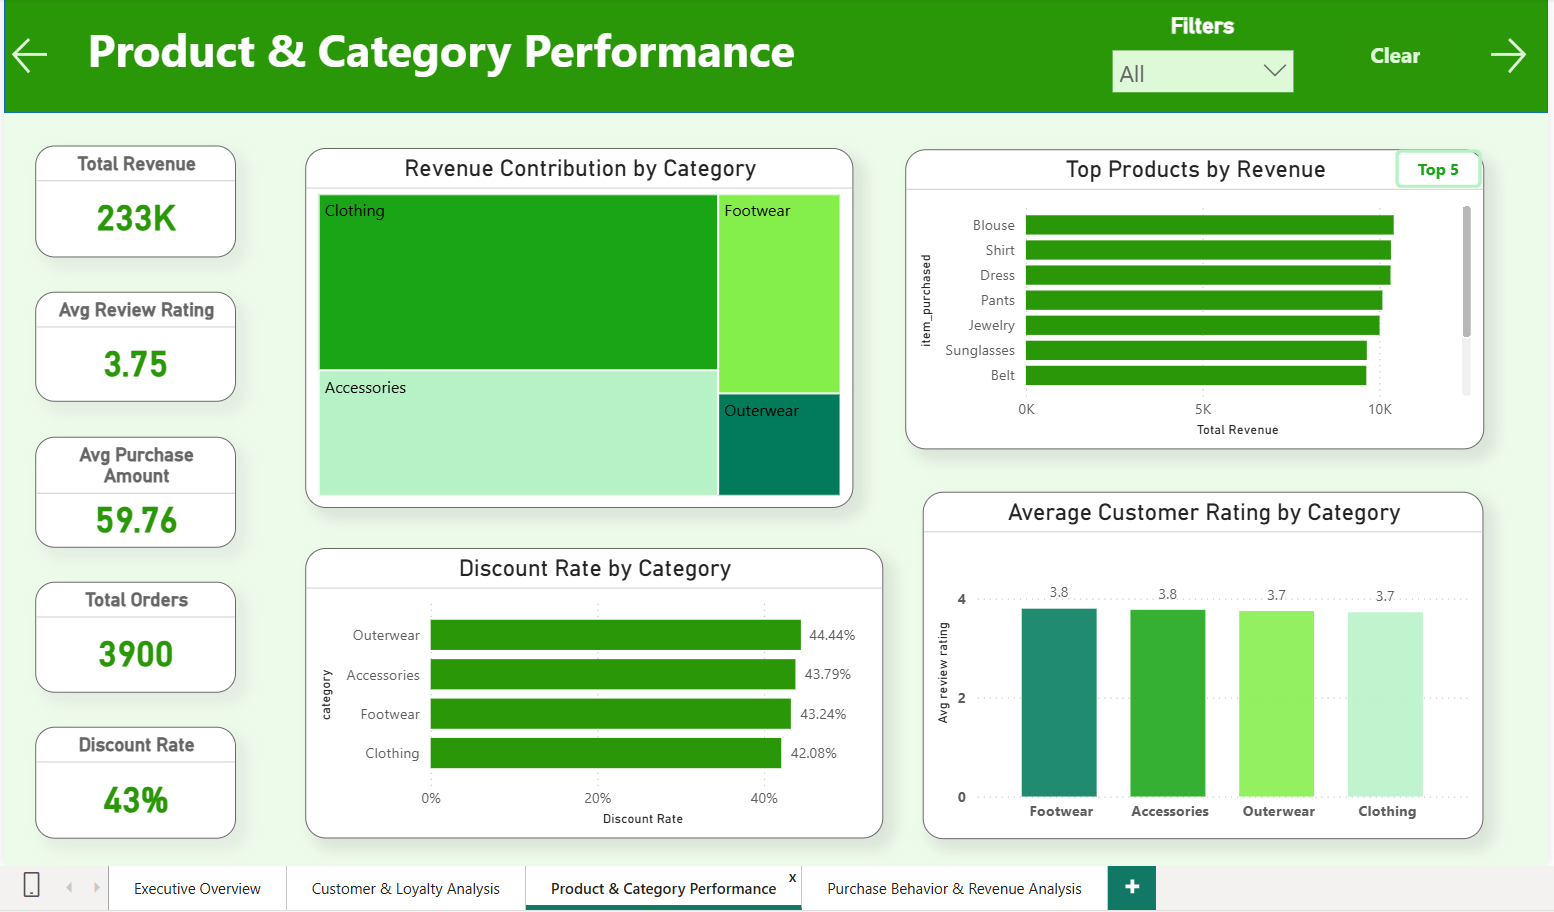

Layout of this report page (visuals, bound fields, positions):
{"tool":"powerbi","page":{"name":"Product & Category Performance","canvas":[1280,720],"ordinal":2},"visuals":[{"type":"card","title":"Total Revenue","fields":{"Values":["customer_behaviour customer.Total Revenue"]},"box":[25.8,122.7,166.7,92.4],"z":0},{"type":"card","title":"Avg Review Rating","fields":{"Values":["customer_behaviour customer.Avg review rating"]},"box":[25.8,243.8,166.7,90.9],"z":1000},{"type":"card","title":"Avg Purchase Amount","fields":{"Values":["customer_behaviour customer.Avg purchase amount"]},"box":[25.8,363.3,166.7,92],"z":2000},{"type":"card","title":"Total Orders","fields":{"Values":["customer_behaviour customer.Total Orders"]},"box":[25.8,483.9,166.7,92],"z":3000},{"type":"card","title":"Discount Rate","fields":{"Values":["customer_behaviour customer.Discount Rate"]},"box":[25.8,604.5,166.7,92.4],"z":4000},{"type":"shape","box":[0,0,1280.3,95.5],"z":5000},{"type":"textbox","box":[64,12.8,617.4,69.8],"z":6000},{"type":"treemap","title":"Revenue Contribution by Category","fields":{"Group":["customer_behaviour customer.category"],"Values":["customer_behaviour customer.Total Revenue"]},"box":[250,124.2,454.5,298.5],"z":7000},{"type":"clusteredBarChart","title":"Top Products by Revenue","fields":{"Category":["customer_behaviour customer.item_purchased"],"Y":["customer_behaviour customer.Total Revenue"]},"box":[747,125.8,480.3,248.5],"z":8000},{"type":"clusteredBarChart","title":"Discount Rate by Category","fields":{"Category":["customer_behaviour customer.category"],"Y":["customer_behaviour customer.Discount Rate"]},"box":[250,455.8,479.1,240.7],"z":9000},{"type":"clusteredColumnChart","title":"Average Customer Rating by Category","fields":{"Category":["customer_behaviour customer.category"],"Y":["customer_behaviour customer.Avg review rating"]},"box":[762.1,409.1,465.2,287.9],"z":10000},{"type":"slicer","title":"Filters","fields":{"Values":["customer_behaviour customer.age_group","customer_behaviour customer.gender","customer_behaviour customer.category","customer_behaviour customer.subscription_status"]},"box":[909.3,12.8,169.8,69.8],"z":11000},{"type":"actionButton","box":[1103.5,22.1,100,50],"z":12000},{"type":"actionButton","box":[1226.7,27.9,50,39.5],"z":13000},{"type":"actionButton","box":[2.3,27.9,45.3,39.5],"z":14000},{"type":"actionButton","box":[1153.5,125.4,71.8,32.4],"z":16001}]}

Visuals, with their boxes on the page's 1280x720 design canvas (x1, y1, x2, y2). These are canvas units, not pixel positions in the 1554x912 screenshot, which may show the page scaled, cropped or inside an application window:
"Total Revenue" card: bbox=(26, 123, 192, 215)
"Avg Review Rating" card: bbox=(26, 244, 192, 335)
"Avg Purchase Amount" card: bbox=(26, 363, 192, 455)
"Total Orders" card: bbox=(26, 484, 192, 576)
"Discount Rate" card: bbox=(26, 604, 192, 697)
shape: bbox=(0, 0, 1280, 96)
textbox: bbox=(64, 13, 681, 83)
"Revenue Contribution by Category" treemap: bbox=(250, 124, 704, 423)
"Top Products by Revenue" clusteredBarChart: bbox=(747, 126, 1227, 374)
"Discount Rate by Category" clusteredBarChart: bbox=(250, 456, 729, 696)
"Average Customer Rating by Category" clusteredColumnChart: bbox=(762, 409, 1227, 697)
"Filters" slicer: bbox=(909, 13, 1079, 83)
actionButton: bbox=(1104, 22, 1204, 72)
actionButton: bbox=(1227, 28, 1277, 67)
actionButton: bbox=(2, 28, 48, 67)
actionButton: bbox=(1154, 125, 1225, 158)
